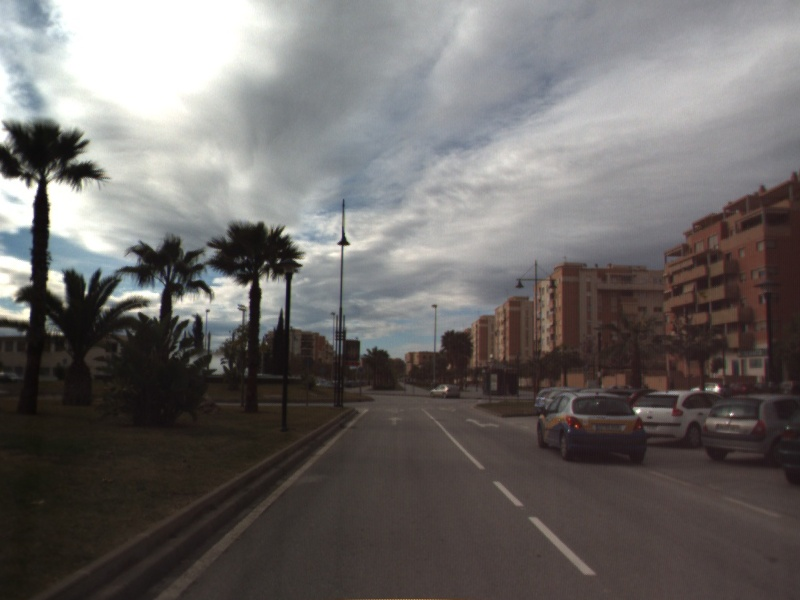STRAIGHT: (386, 414, 405, 427)
STRAIGHT_RIGHT: (464, 416, 502, 430)
